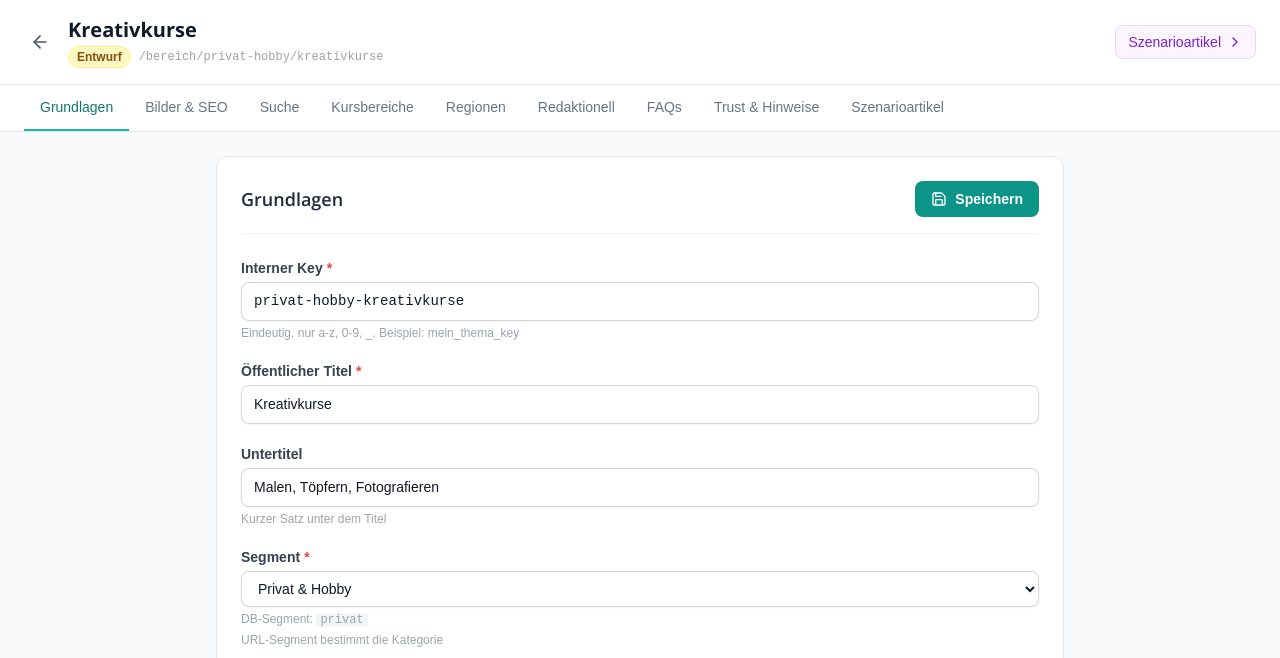
Test: Regionen: anchor_text_de ist im Admin sichtbar › zeigt den gespeicherten öffentlichen Linktext
Click the button "Regionen".
click(476, 108)  # box [430, 85, 522, 131]
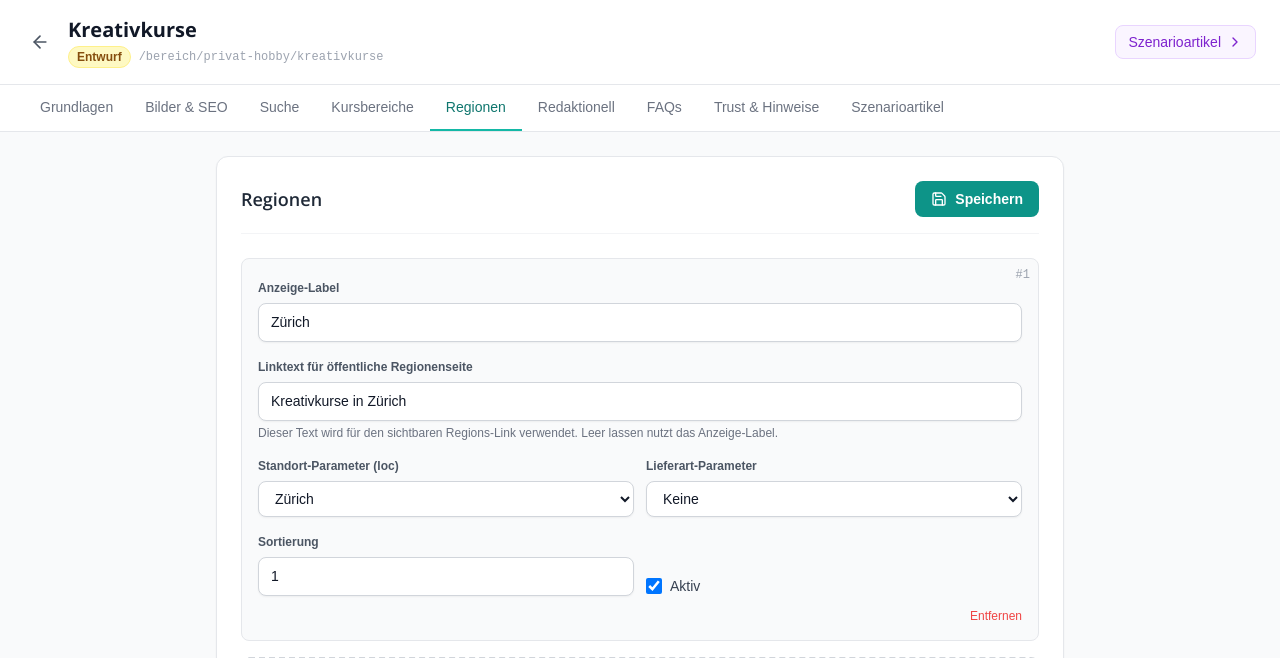
Expected: the field showing "Kreativkurse in Zürich" below "Linktext für öffentliche Regionenseite" is shown, [258, 382, 1022, 421]
Expected: the text "Linktext für öffentliche Regionenseite" is shown, [258, 360, 473, 374]
